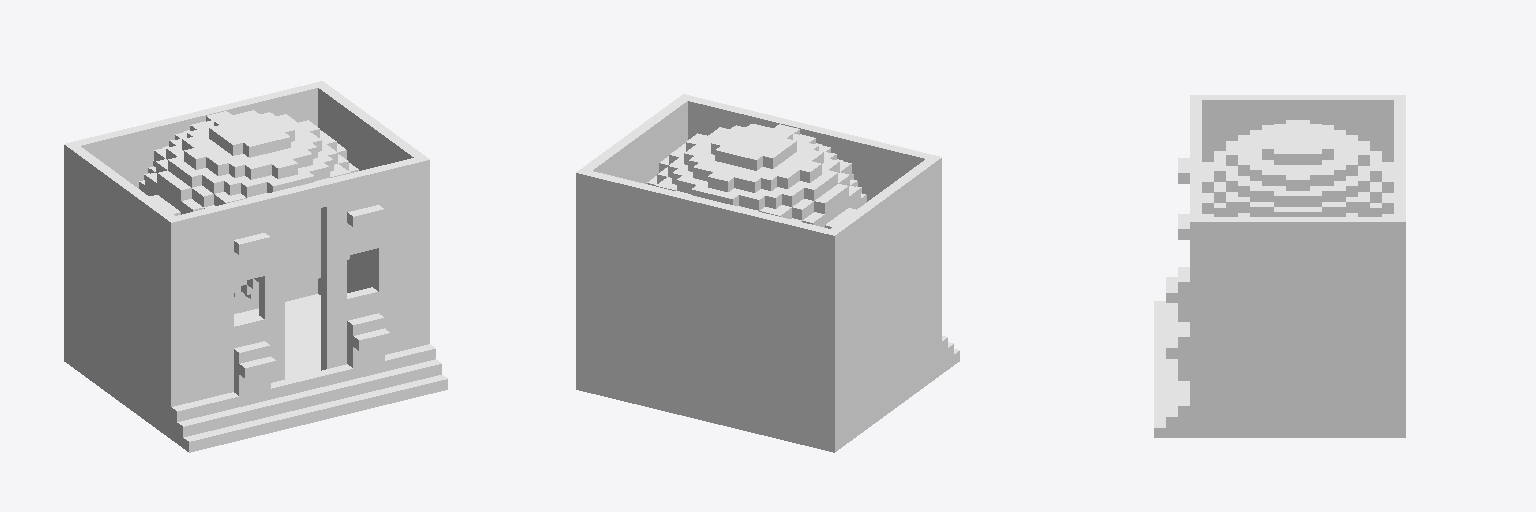
The model's file is building02.obj.
The picture shows the model from 3 angles: view 1: azimuth 30°, elevation 25°; view 2: azimuth 150°, elevation 25°; view 3: azimuth 270°, elevation 25°; orthographic projection.
Parts seen in each view (by area): view 1: object 1; view 2: object 1; view 3: object 1.
Part boxes in pixels (bbox=[...]): object 1: bbox=[64, 81, 447, 452]; object 1: bbox=[576, 94, 959, 452]; object 1: bbox=[1154, 95, 1405, 437].
Size of the model in its own units: 2.5 by 2.2 by 2.1.